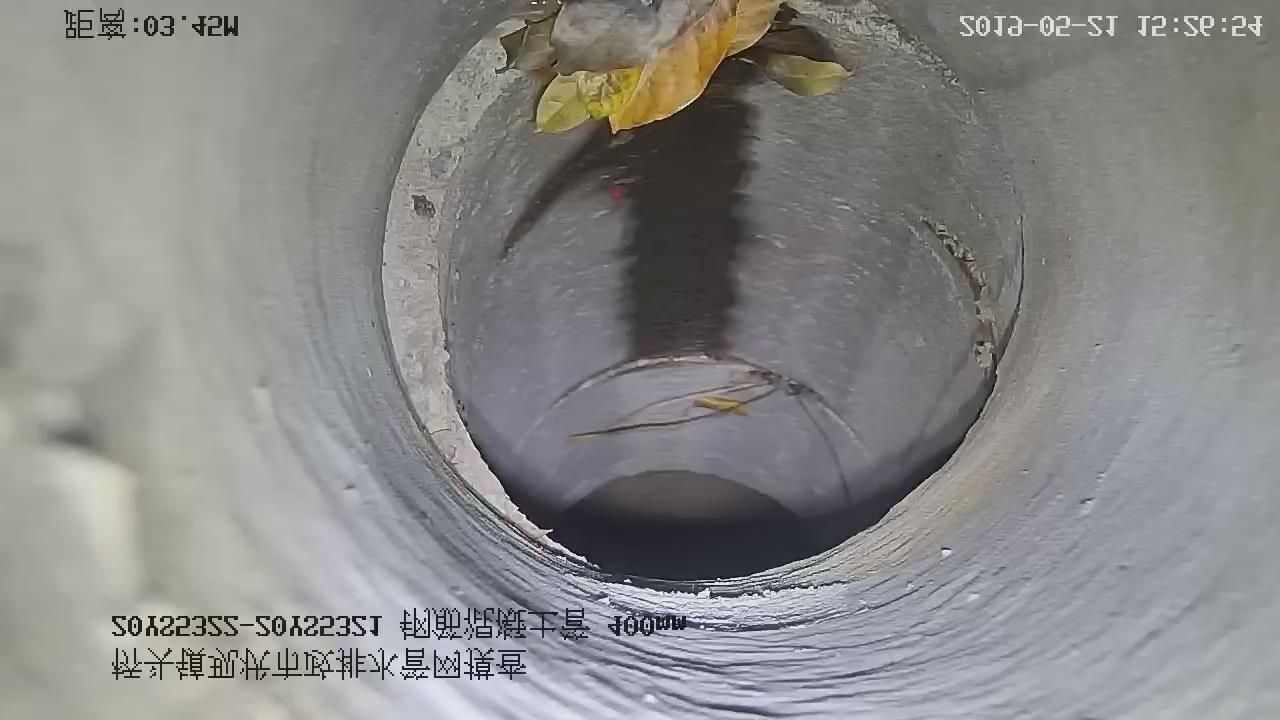CKTJ: (381, 18, 569, 554)
